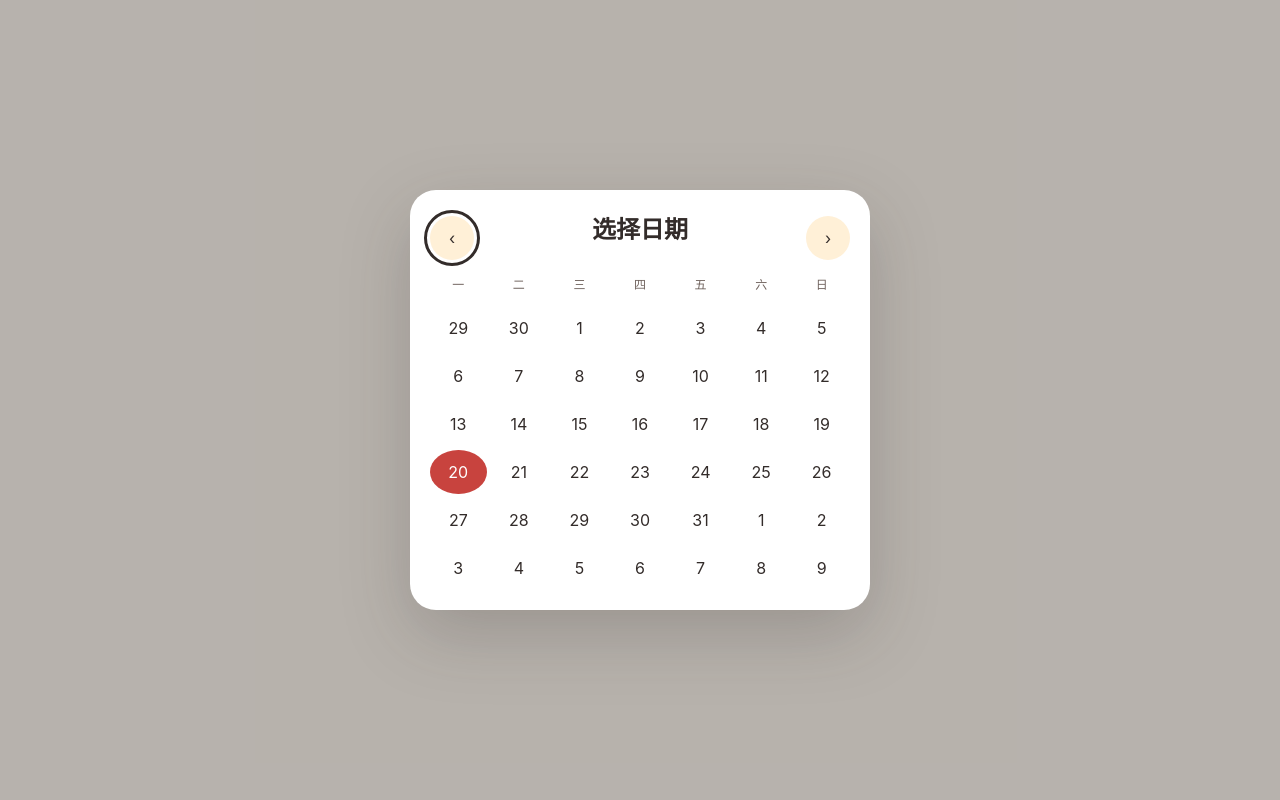
Test: pages to adjacent calendar months
Click the button named "下个月" at (828, 238), box [806,216,850,260]
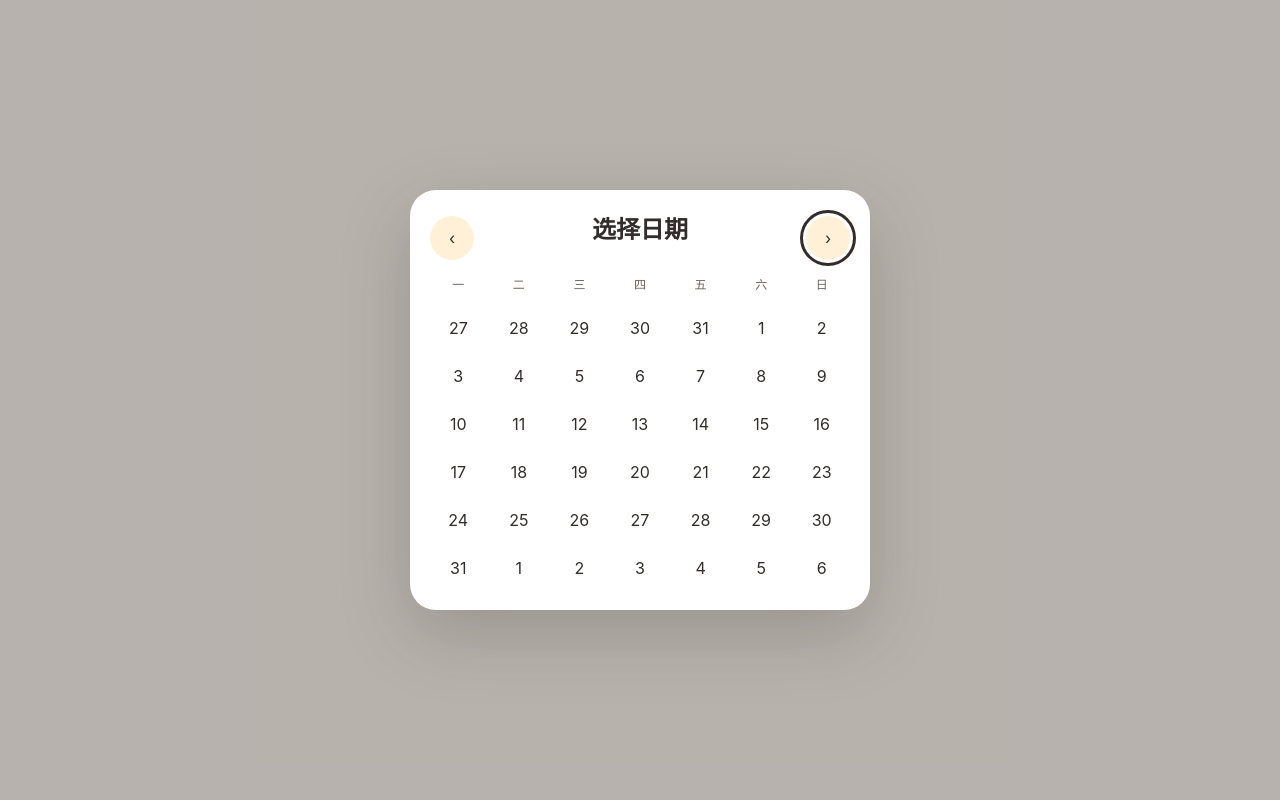
Expected: the button named "2026年9月6日" is shown, [793,546,850,590]
Click the button named "上个月" at (452, 238), box [430,216,474,260]
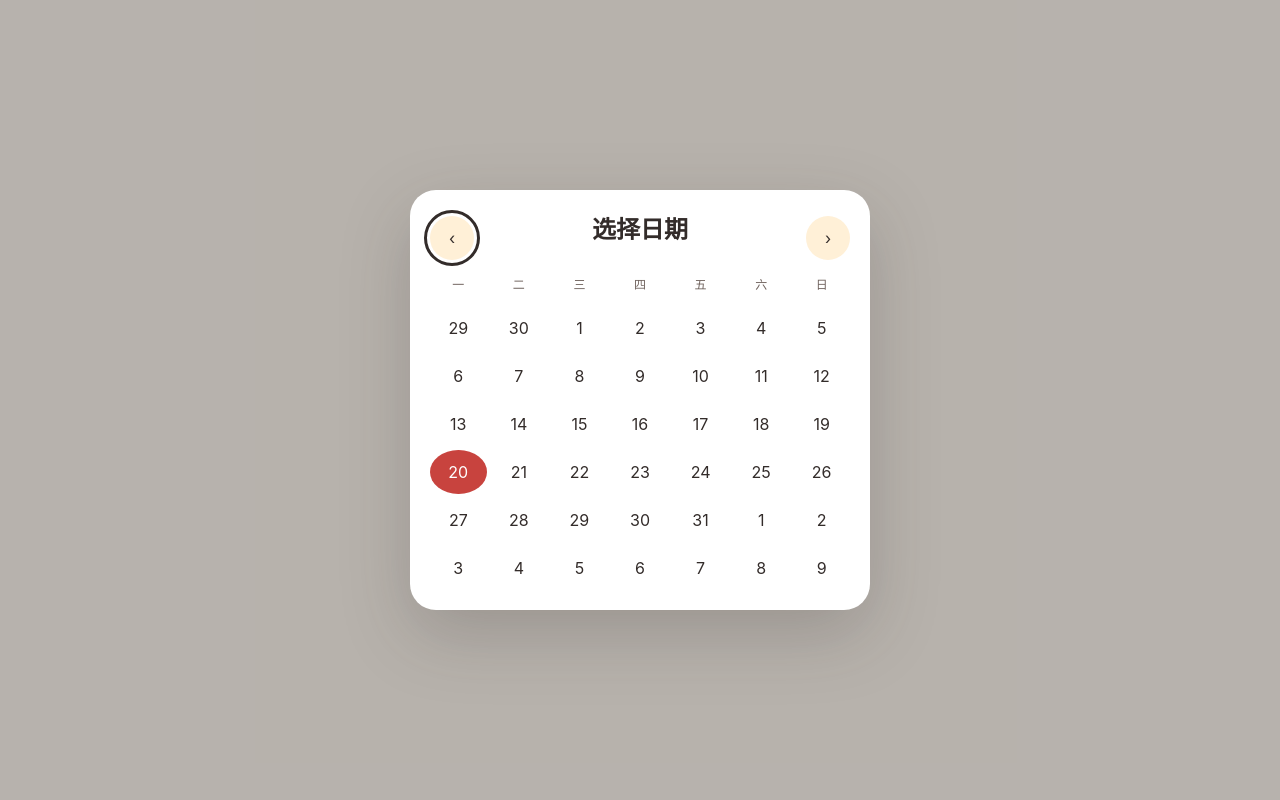
Expected: the button named "2026年6月29日" is shown, [430,306,487,350]
